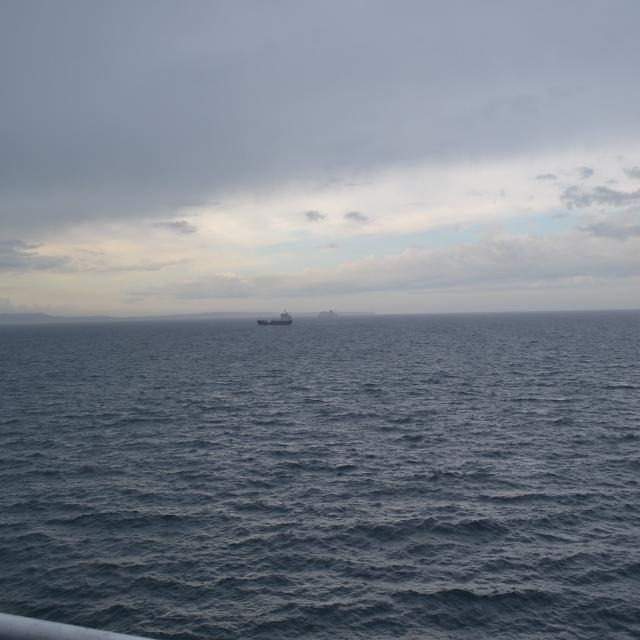cargoship: (256, 308, 294, 326)
